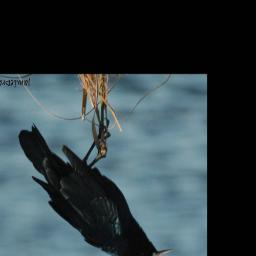Crow: (19, 118, 173, 256)
